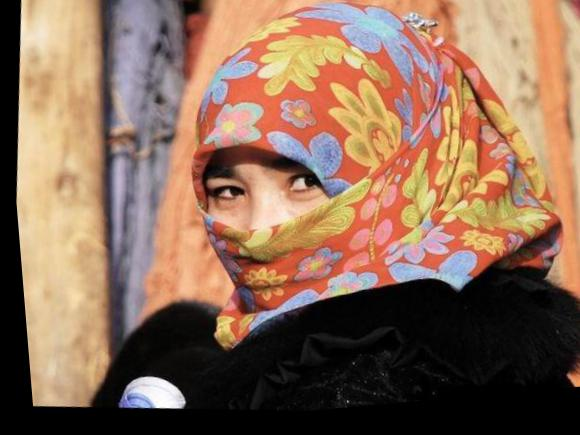WRONG: (185, 127, 393, 335)
